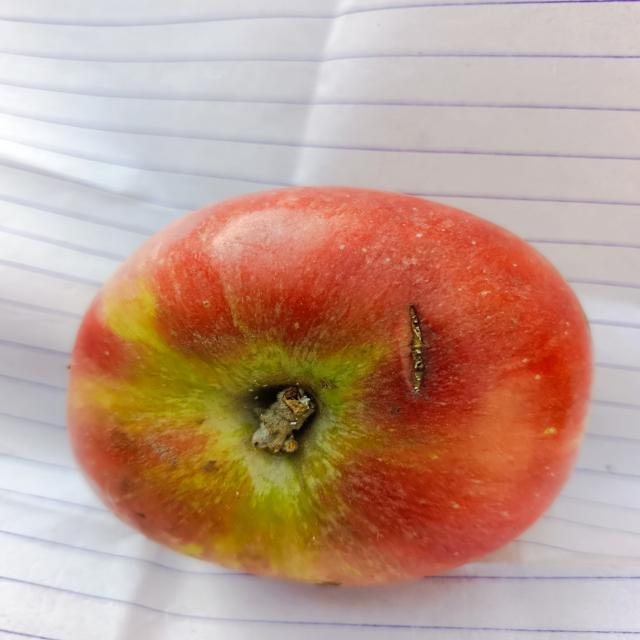Fresh Apple: (54, 183, 594, 596)
